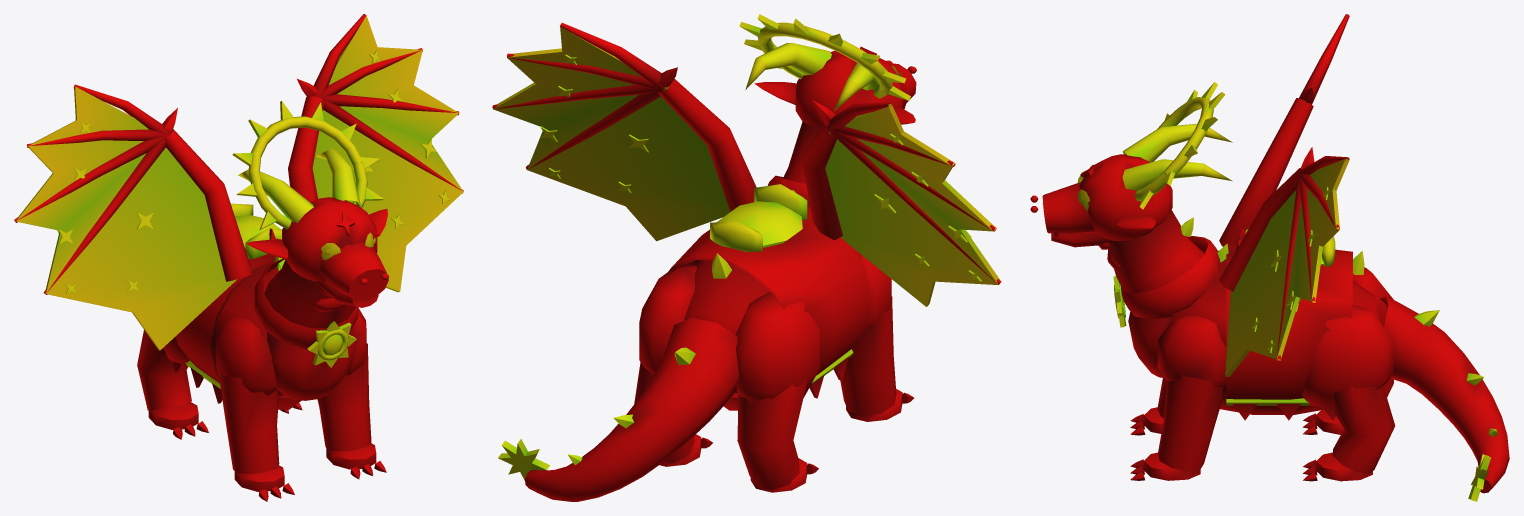
The model's file is Dragon.glb.
3 views of the same model, side by side, from view 1: azimuth 30°, elevation 25°; view 2: azimuth 150°, elevation 25°; view 3: azimuth 270°, elevation 25° (orthographic). The views are drawn at different scales.
Visible parts, largest first — view 1: Dragon; view 2: Dragon; view 3: Dragon.
Part boxes in pixels (x1=…): Dragon: x1=14, y1=14, x2=463, y2=501; Dragon: x1=492, y1=14, x2=1001, y2=501; Dragon: x1=1030, y1=14, x2=1509, y2=501.
Size of the model in its own units: 2.77 by 2.15 by 2.55.
